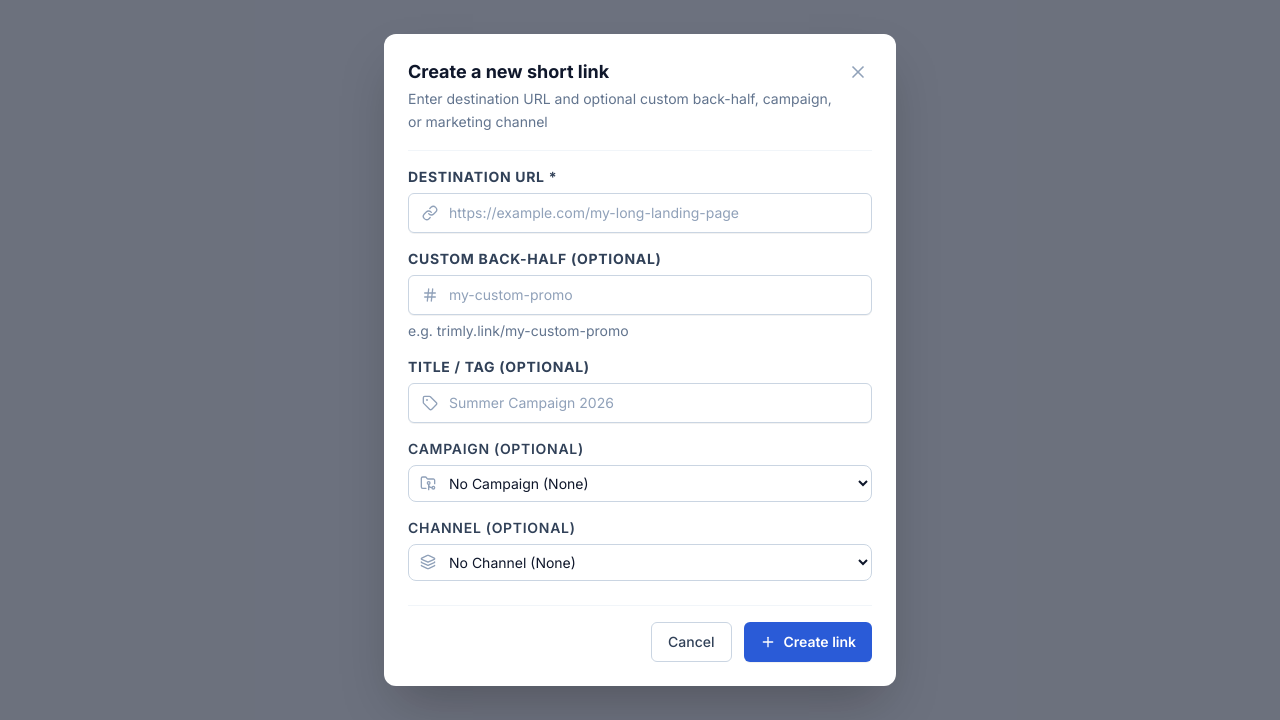
Scenario: CreateLinkModal › validates URL requirement on submit
Click the button "Create link" at (808, 642), box [744, 622, 872, 662]
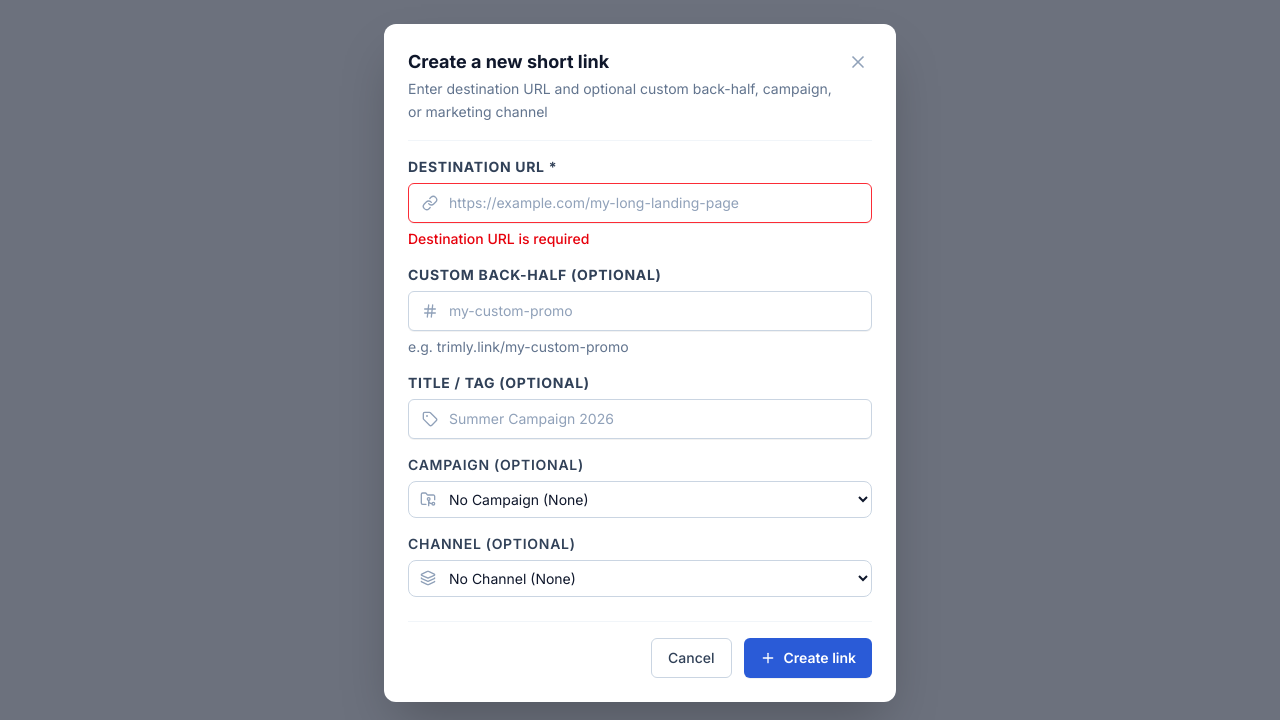
Expected: the text "Destination URL is required" is shown, [408, 230, 589, 246]
